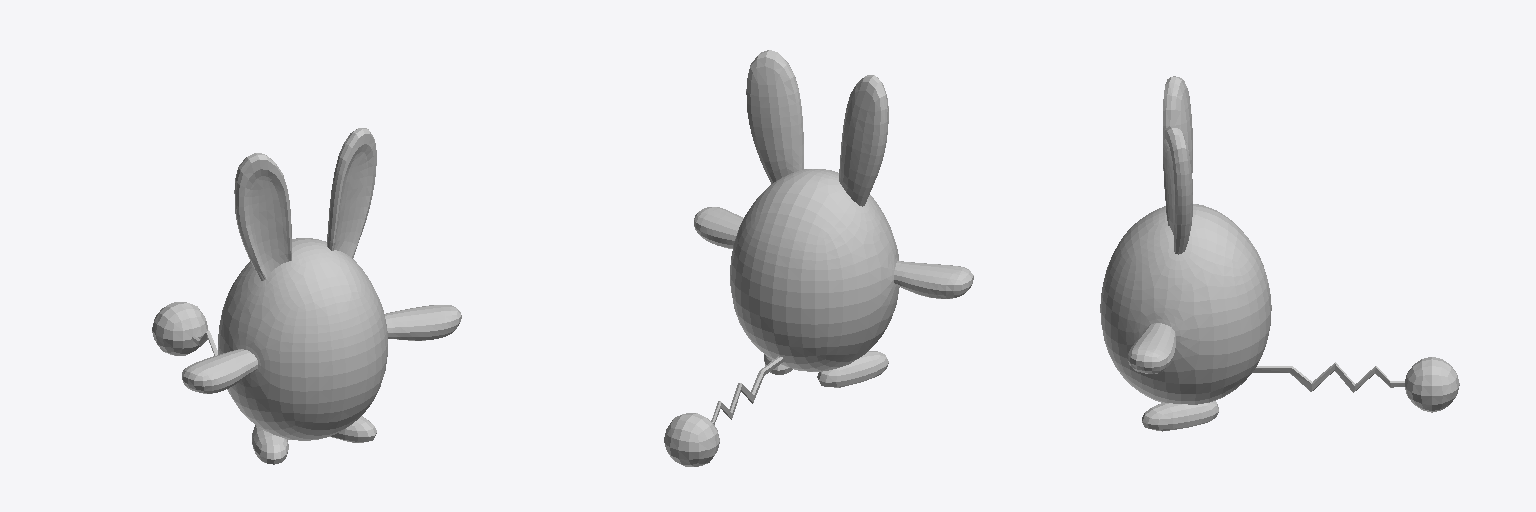
Rendered from Azumarill.obj.
3 renders of one model, left to right at view 1: azimuth 30°, elevation 25°; view 2: azimuth 150°, elevation 25°; view 3: azimuth 270°, elevation 25°, orthographic.
Visible parts, largest first — view 1: Azumarill; view 2: Azumarill; view 3: Azumarill.
Part boxes in pixels (x1,y1,x2,y2): Azumarill: (152, 128, 461, 464); Azumarill: (664, 50, 973, 466); Azumarill: (1100, 76, 1459, 431).
Size of the model in its own units: 2 by 2.14 by 2.27.